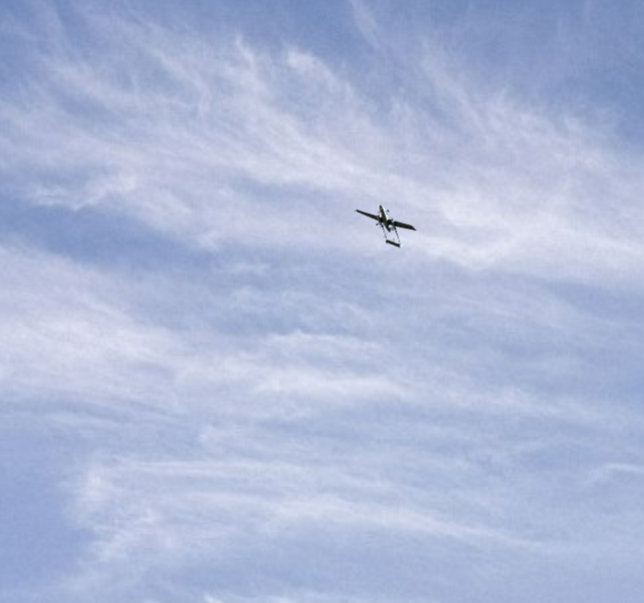military drone: (354, 204, 416, 248)
